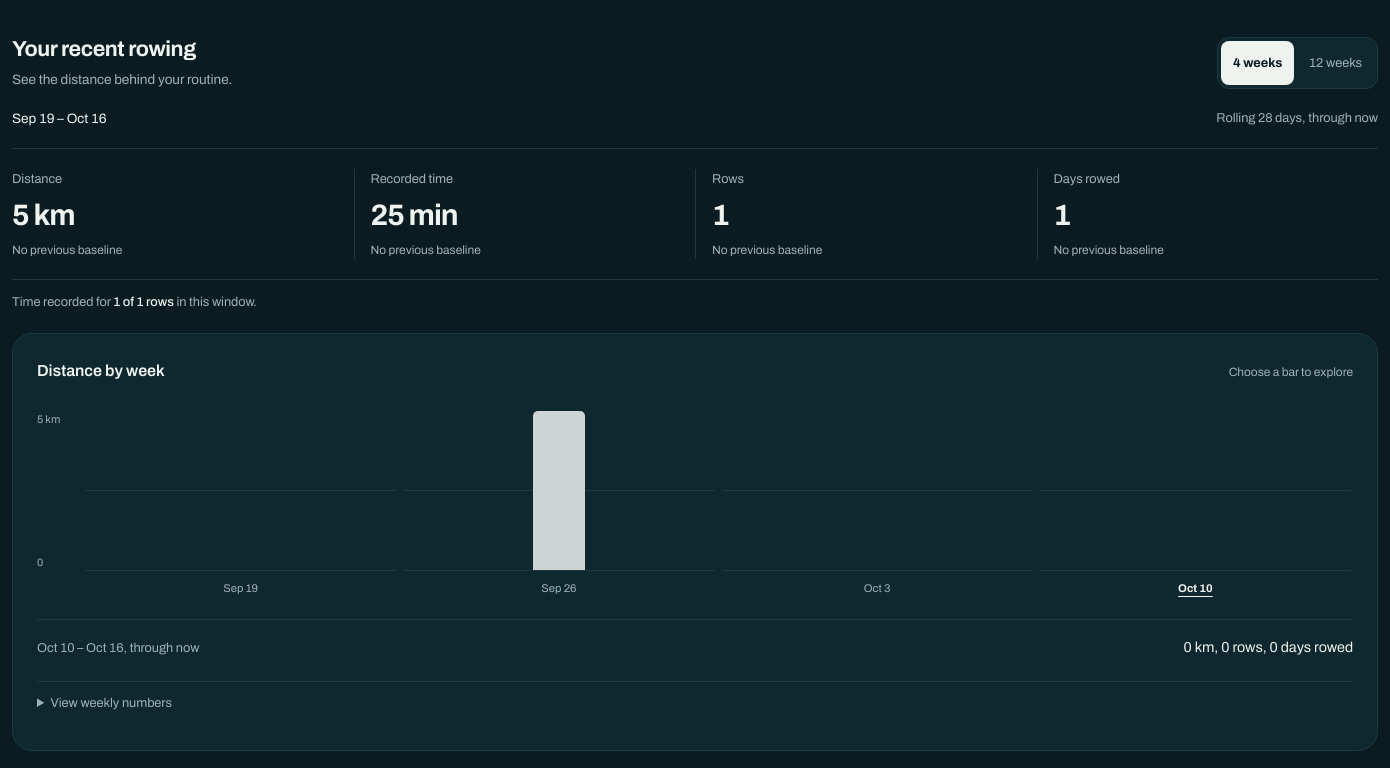
Test: shows the distance chart immediately and changes totals and accessible chart data with the period
The image size is (1390, 768).
Expected: the element with class "analytics-date-range" shows "Rolling 28 days", [12,108,1378,130]
Expected: the text "5 km" next to "25 min" is shown, [12,199,75,231]
Click the button "12 weeks" at (1336,63), box [1297,41,1374,85]
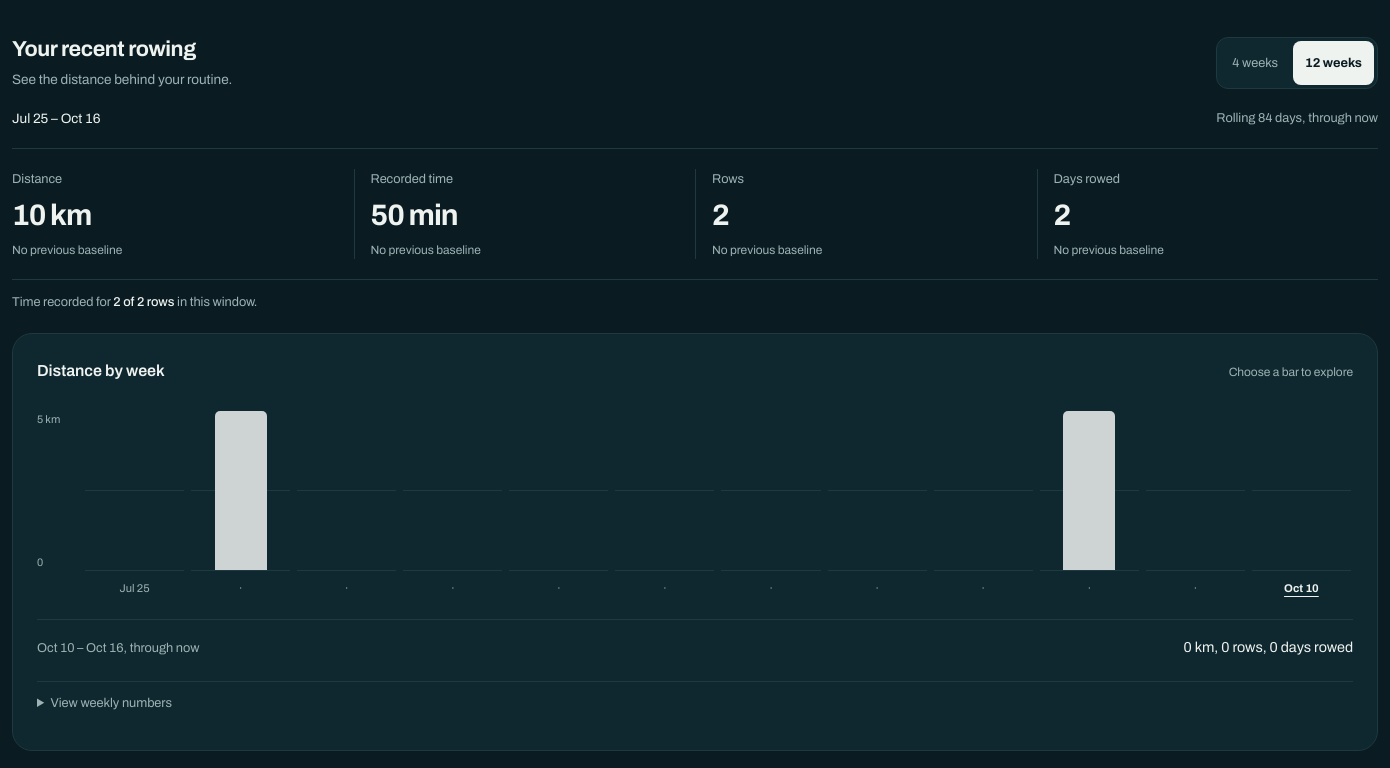
Expected: the text "10 km" is shown, [12,199,91,231]
Expected: the number of buttons with class "analytics-week" is 12
Expected: the element with class "analytics-date-range" shows "Rolling 84 days", [12,108,1378,130]
